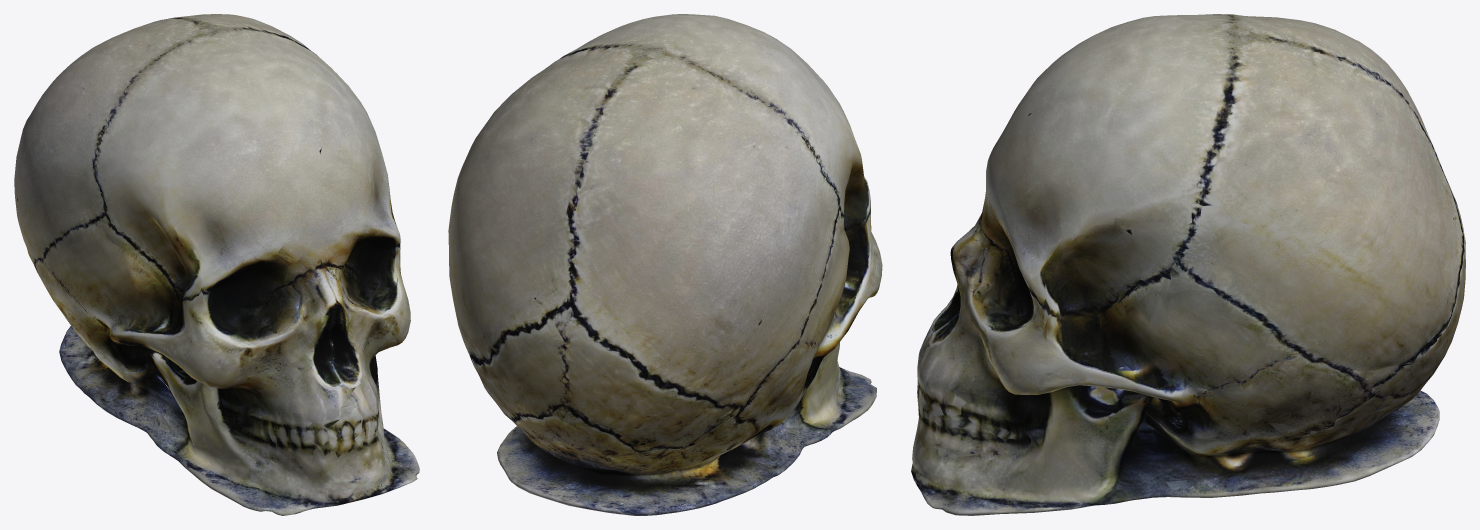
File: skull.glb
3 renders of one model, left to right at view 1: azimuth 30°, elevation 25°; view 2: azimuth 150°, elevation 25°; view 3: azimuth 270°, elevation 25°, orthographic. The views are drawn at different scales.
Parts seen in each view (by area): view 1: skull; view 2: skull; view 3: skull.
Boxes of the visible parts, bbox=[...] form: skull: bbox=[14, 14, 419, 515]; skull: bbox=[448, 14, 882, 515]; skull: bbox=[911, 14, 1465, 515].
Size of the model in its own units: 0.7026 by 0.8665 by 0.9996.
Materials: 1 (1 with a texture image).
